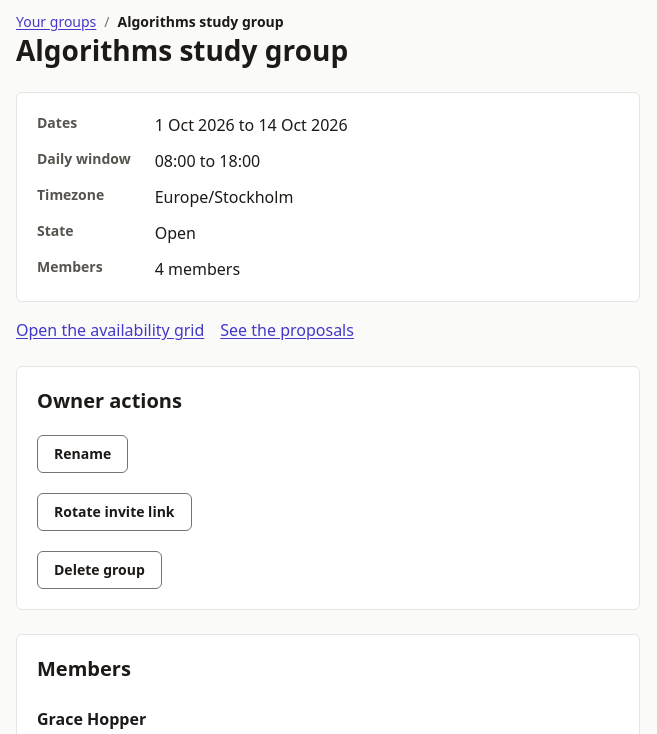
it: GroupDetailPage, rename › restores the original value on cancel and sends nothing
Click the button "Rename" at (83, 454), box [37,435,128,473]
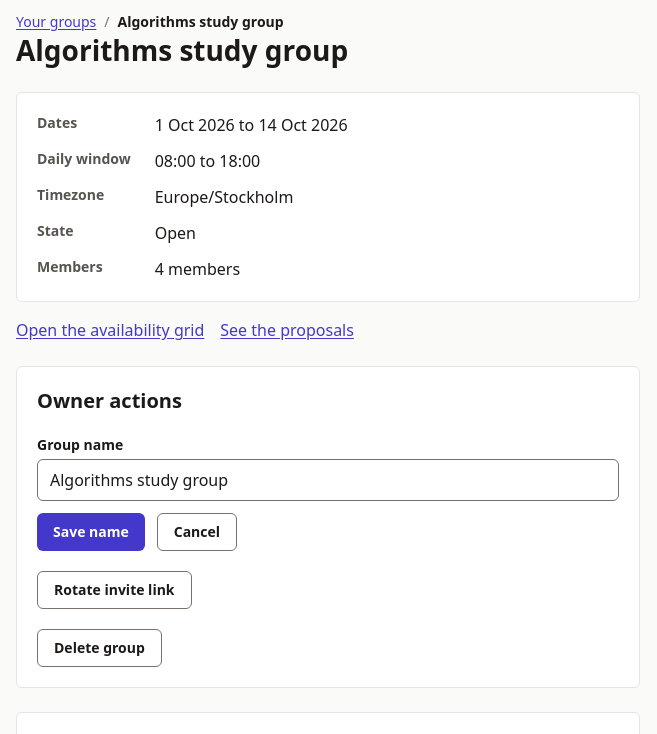
Replace the text in the field labelled "Group name" with "Something else" at (328, 480), box [37,459,619,501]
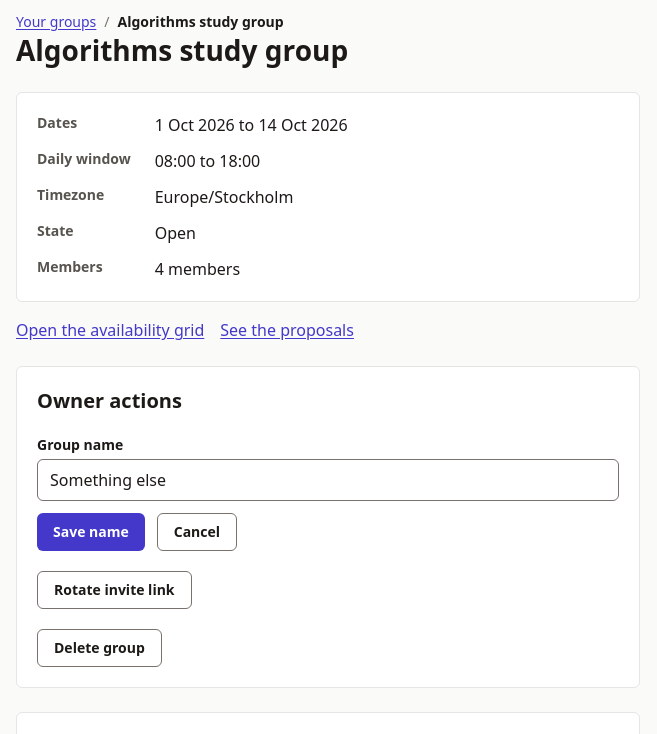
Click the button "Cancel" at (197, 532), box [157,513,237,551]
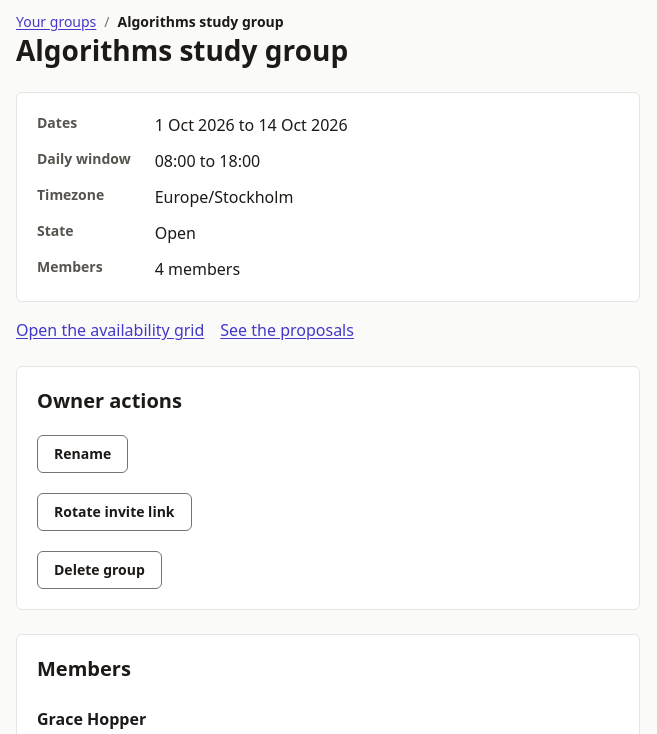
Click the button "Rename" at (83, 454), box [37,435,128,473]
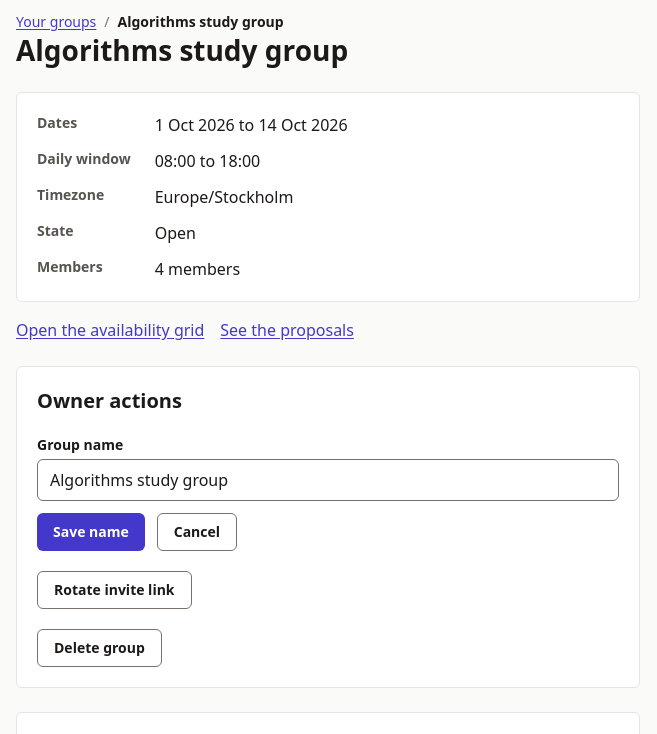
Now the field labelled "Group name" holds "Algorithms study group", box [37,459,619,501]
